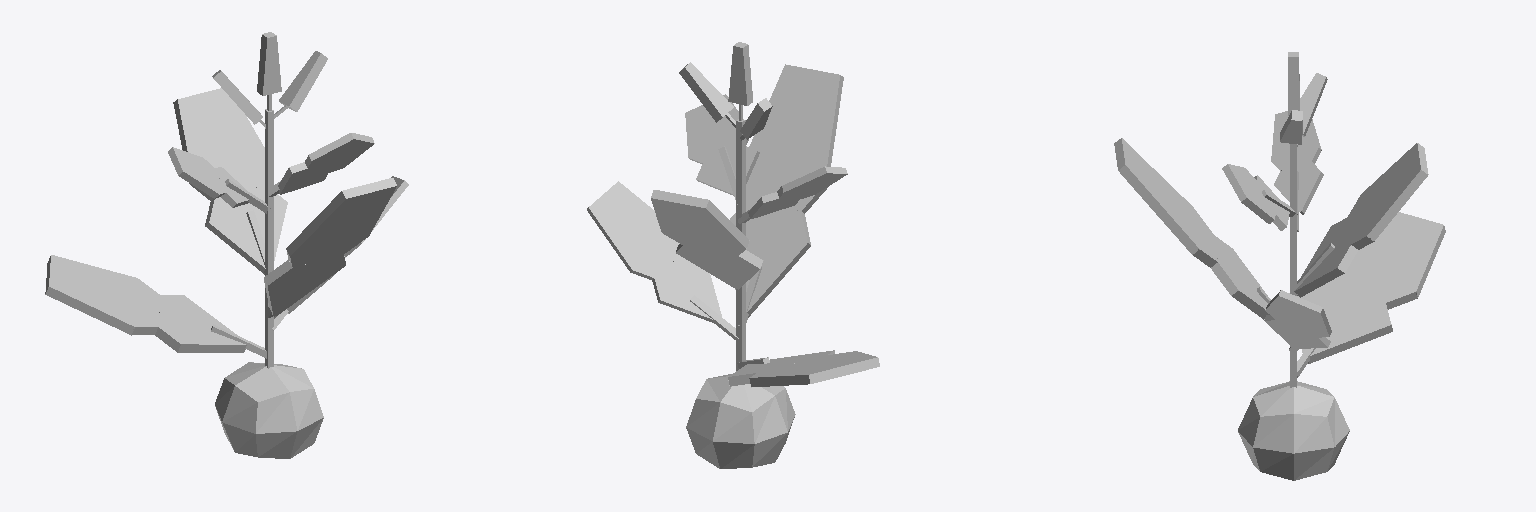
The model's file is Unused.obj.
3 renders of one model, left to right at view 1: azimuth 30°, elevation 25°; view 2: azimuth 150°, elevation 25°; view 3: azimuth 270°, elevation 25°, orthographic.
Parts seen in each view (by area): view 1: cube 1, cube 3, default, cube 4, Cube, cube 5, cube 6, Cube 8, Cube 9, cube 2; view 2: cube 4, default, cube 2, cube 3, cube 1, cube 5, Cube, cube 6, Cube 8, Cube 9; view 3: cube 1, default, cube 4, cube 3, cube 2, cube 6, Cube, cube 5, Cube 9, Cube 8.
Boxes of the visible parts, x1,y1,x2,y2 form: cube 1: [45, 255, 246, 352]; cube 3: [173, 88, 287, 274]; default: [215, 362, 323, 458]; cube 4: [264, 178, 396, 316]; Cube: [257, 32, 281, 368]; cube 5: [278, 133, 374, 194]; cube 6: [168, 147, 248, 207]; Cube 8: [279, 51, 327, 111]; Cube 9: [212, 70, 262, 124]; cube 2: [287, 176, 408, 313]; cube 4: [730, 64, 843, 317]; default: [686, 374, 795, 468]; cube 2: [587, 181, 721, 322]; cube 3: [651, 190, 763, 289]; cube 1: [728, 350, 879, 387]; cube 5: [685, 94, 759, 195]; Cube: [728, 42, 752, 370]; cube 6: [748, 166, 847, 218]; Cube 8: [679, 62, 733, 122]; Cube 9: [740, 98, 772, 139]; cube 1: [1297, 212, 1445, 363]; default: [1238, 381, 1349, 480]; cube 4: [1114, 138, 1270, 319]; cube 3: [1294, 143, 1428, 297]; cube 2: [1264, 290, 1331, 348]; cube 6: [1271, 111, 1323, 214]; Cube: [1288, 52, 1299, 387]; cube 5: [1222, 164, 1289, 230]; Cube 9: [1300, 73, 1327, 136]; Cube 8: [1280, 110, 1302, 144].
Bounding box in the file's own units: 1.56 × 1.95 × 1.39.